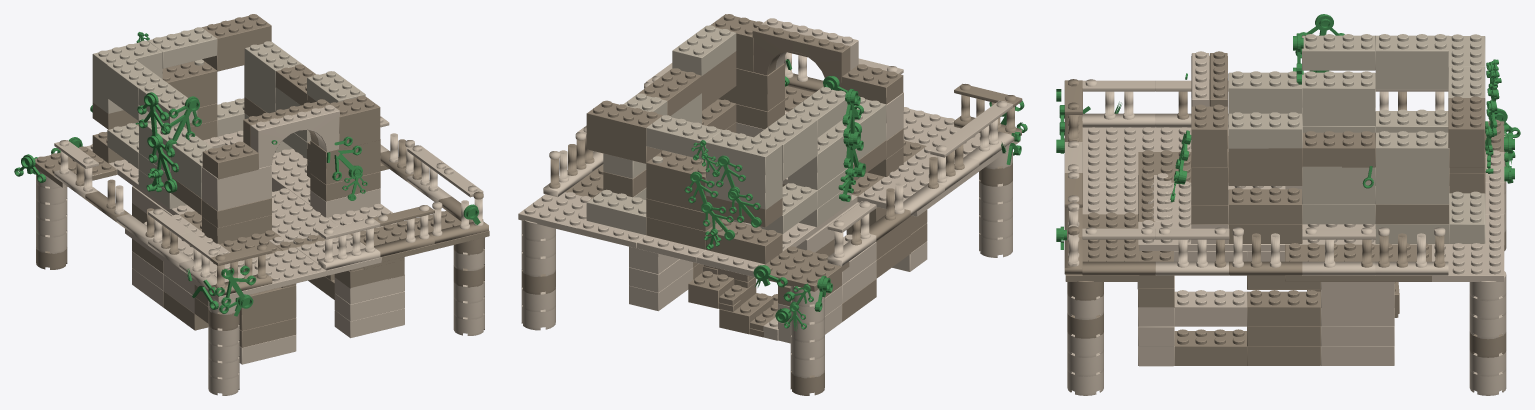
Rendered from ruins.glb.
The picture shows the model from 3 angles, left to right: view 1: azimuth 30°, elevation 25°; view 2: azimuth 150°, elevation 25°; view 3: azimuth 270°, elevation 25°; orthographic projection. The views are drawn at different scales.
Parts seen in each view (by area): view 1: ruins.001; view 2: ruins.001; view 3: ruins.001.
Boxes of the visible parts, x1,y1,x2,y2 form: ruins.001: (14,14,489,395); ruins.001: (518,14,1027,395); ruins.001: (1056,14,1520,395).
Bounding box in the file's own units: 7.66 × 5.59 × 9.31.
